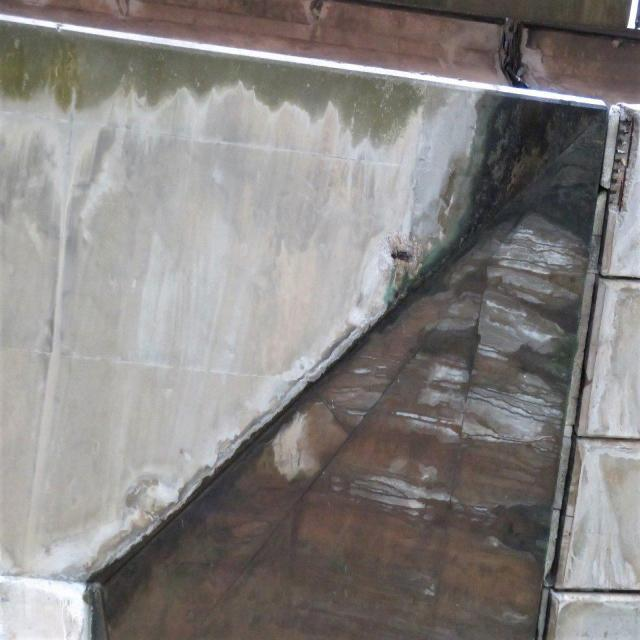Rebar: (608, 105, 640, 226), (375, 230, 423, 281)
